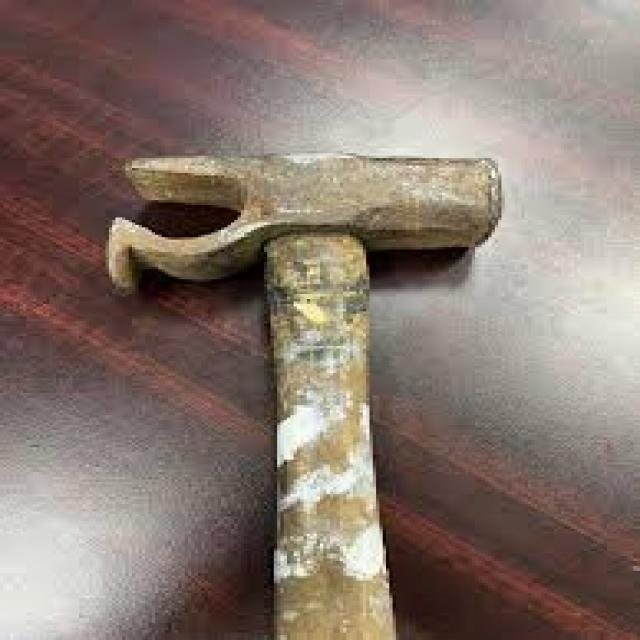hammer: (91, 131, 523, 640)
